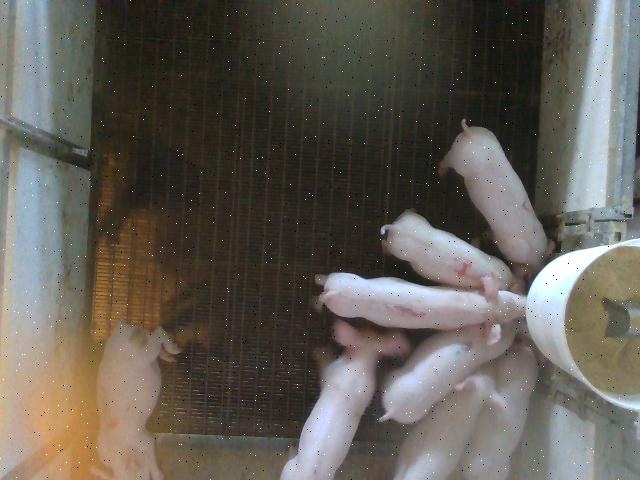pig-1: (315, 272, 526, 343)
pig-3: (91, 318, 180, 478)
pig-4: (380, 210, 532, 291)
